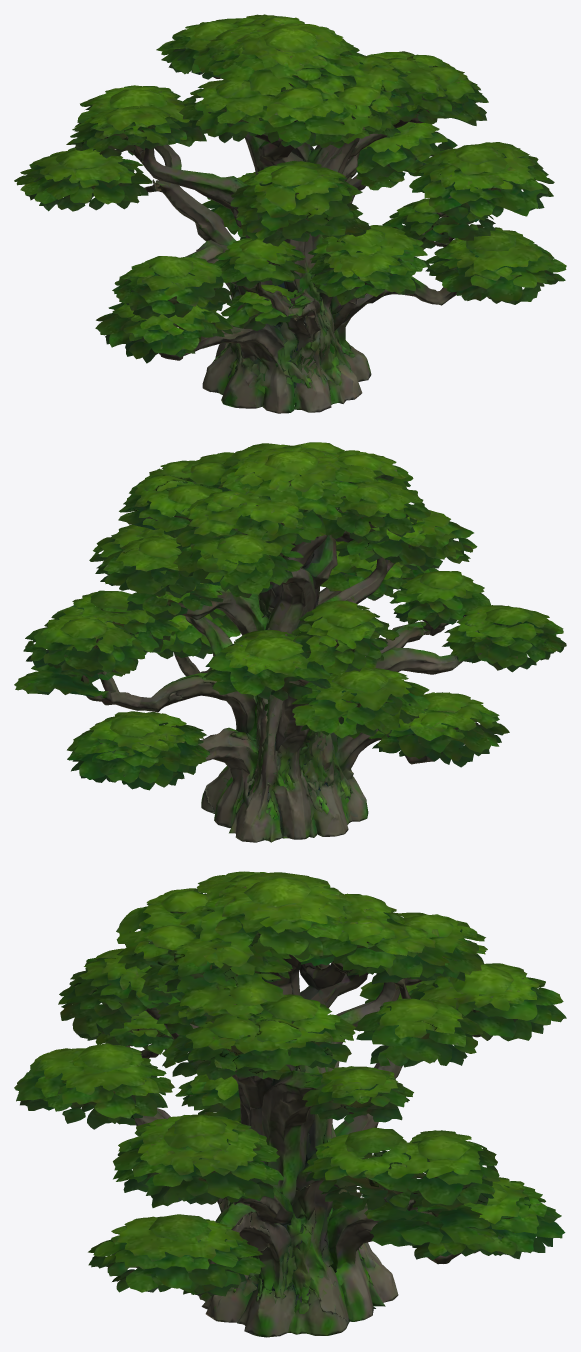
Rendered from crown.glb.
3 renders of one model, top to bottom at view 1: azimuth 30°, elevation 25°; view 2: azimuth 150°, elevation 25°; view 3: azimuth 270°, elevation 25°, orthographic. The views are drawn at different scales.
Visible parts, largest first — view 1: world; view 2: world; view 3: world.
Part boxes in pixels (bbox=[...]): world: bbox=[14, 14, 566, 413]; world: bbox=[14, 442, 566, 842]; world: bbox=[14, 871, 566, 1337].
Bounding box in the file's own units: 0.9895 × 0.7519 × 0.9167.
Materials: 1 (1 with a texture image).
